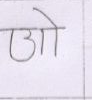e_matra: (33, 8, 60, 26)
